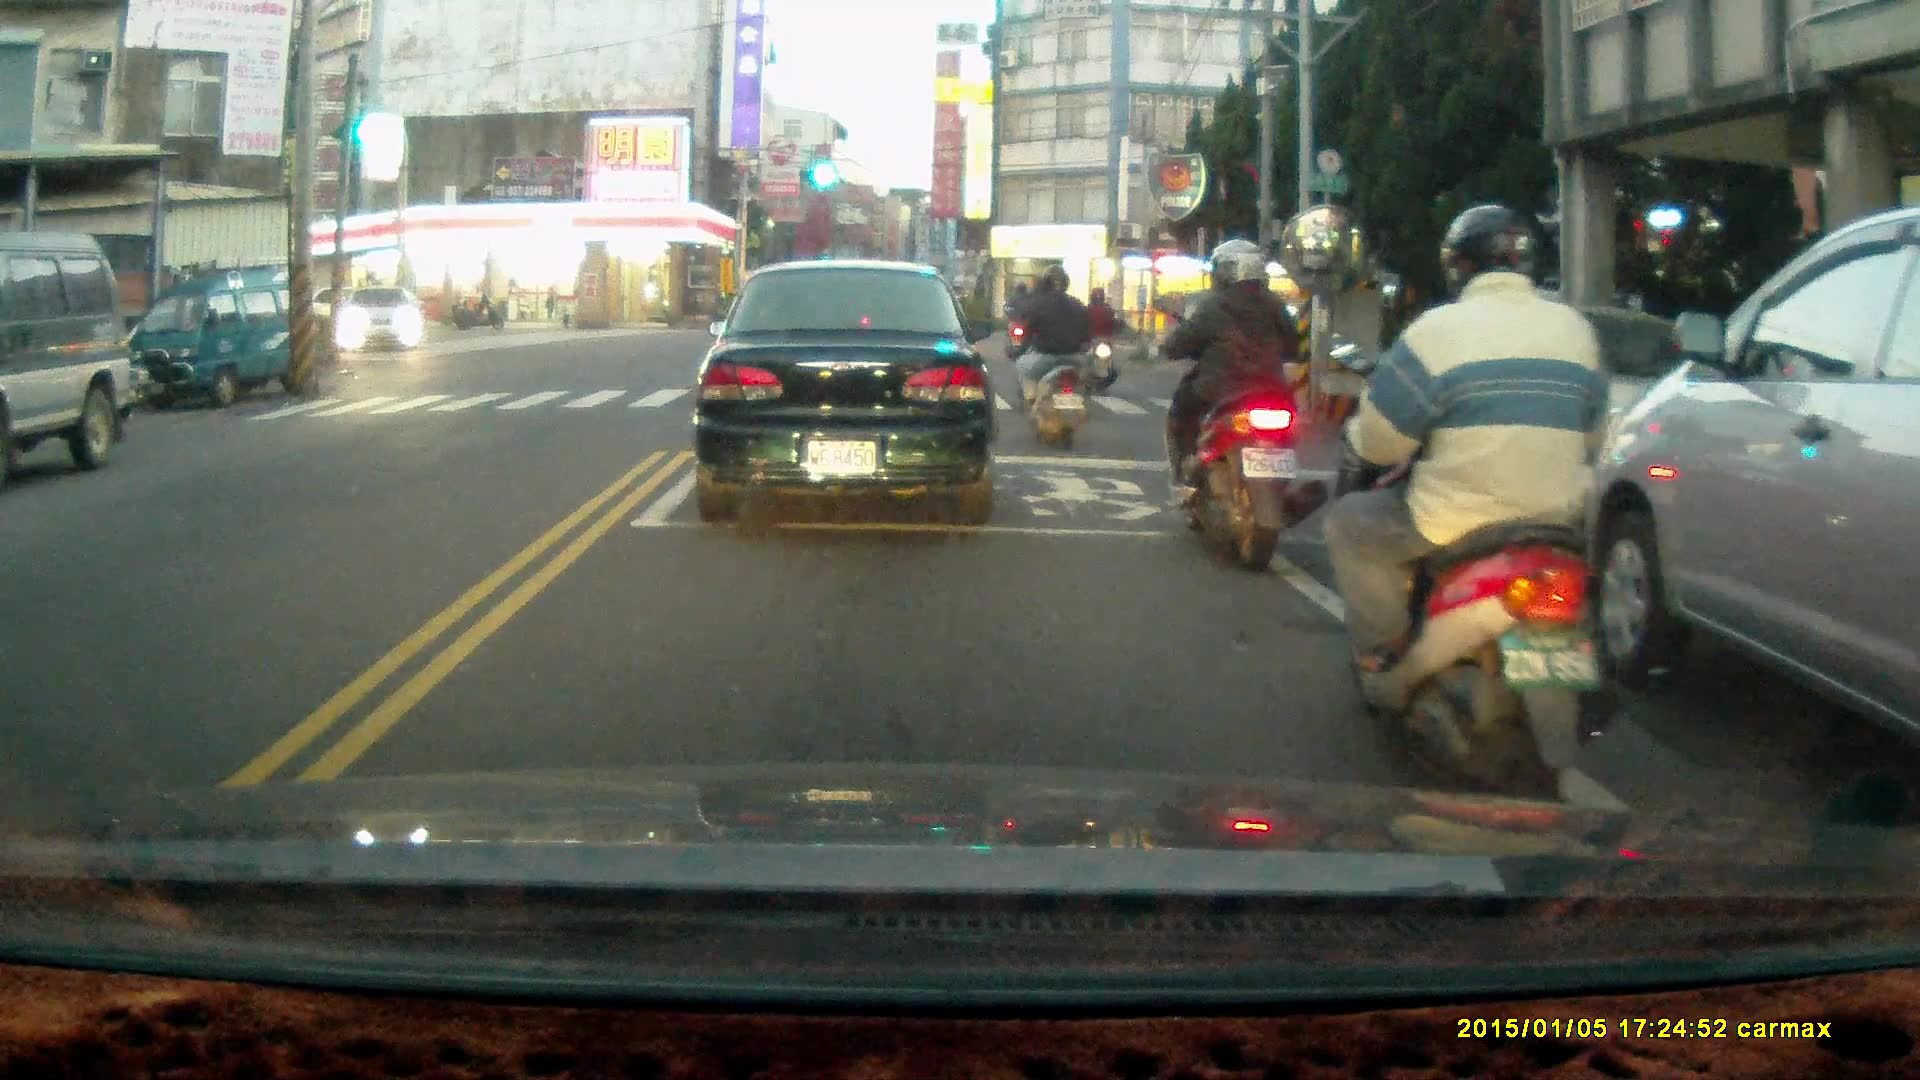rider: (1328, 205, 1633, 835), (1156, 237, 1328, 581), (1012, 261, 1090, 449), (1077, 283, 1117, 400), (1000, 281, 1033, 362)
vehicle: (1587, 208, 1920, 816), (691, 255, 1007, 530), (1, 234, 132, 480), (140, 263, 297, 407), (336, 287, 426, 358)
